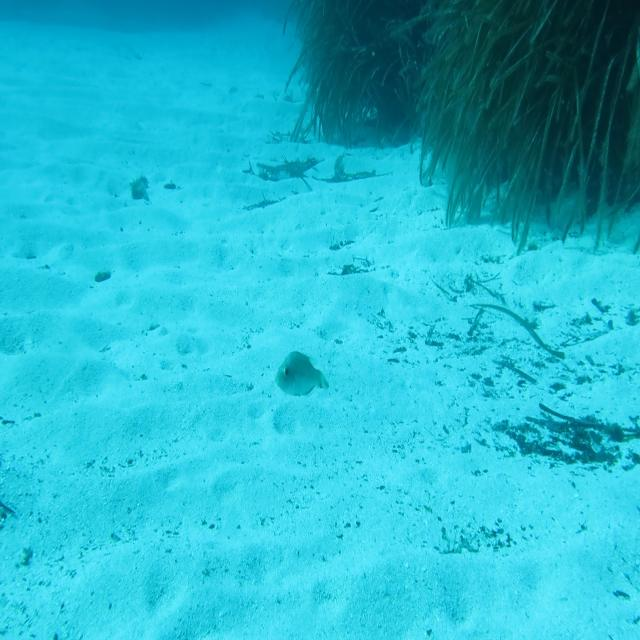BN: (268, 343, 334, 405)
vegetation: (406, 0, 640, 224), (287, 1, 406, 149), (484, 402, 640, 472)
